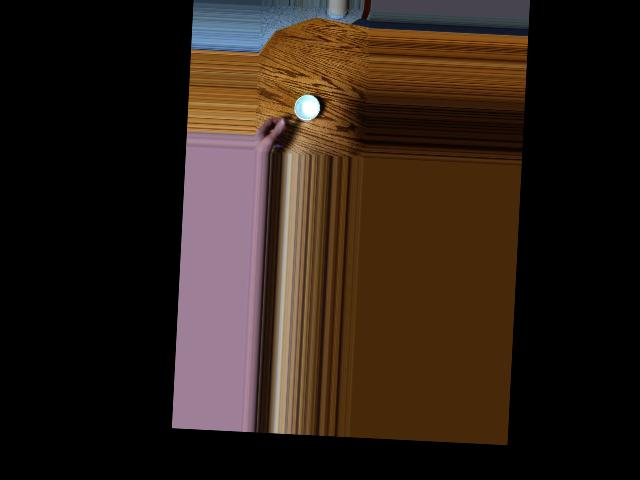cotage: (291, 93, 319, 125)
